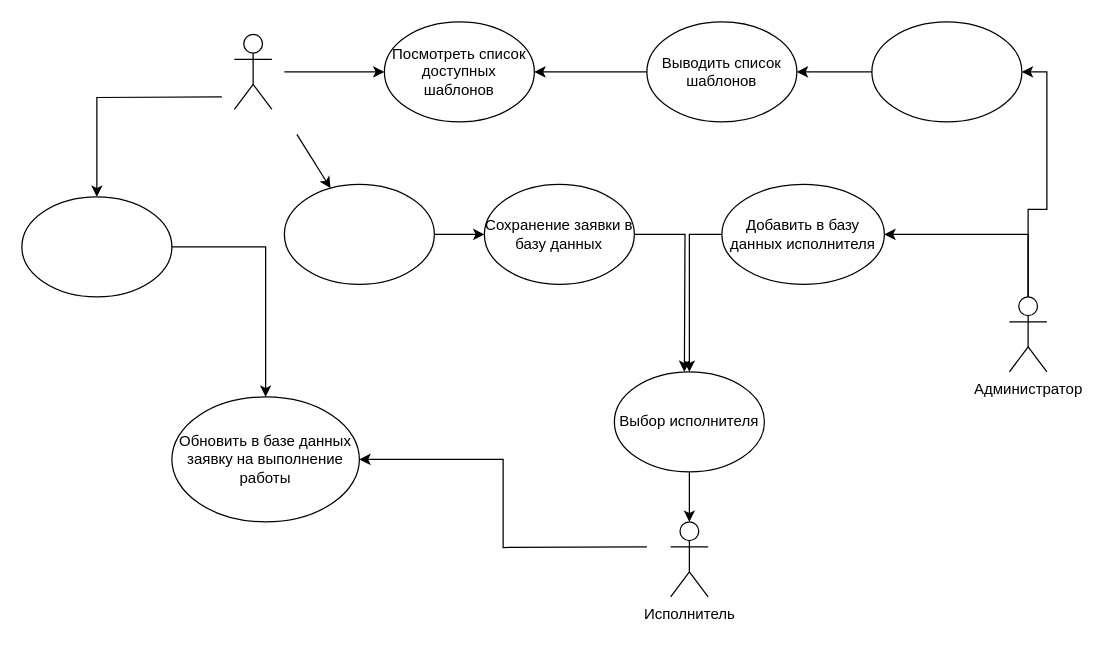
Image size: 1104x645. Some labels were removed from this diagram. Here are the shapes that lost their labels. From the top down, the centre of each, then its label:
At pixel 252 71: "Пользователь".
At pixel 946 71: "Добавить в базу данных шаблоны".
At pixel 96 246: "Просмотреть статус заявки".
At pixel 358 233: "Оставить заявку на выполнение работы".
